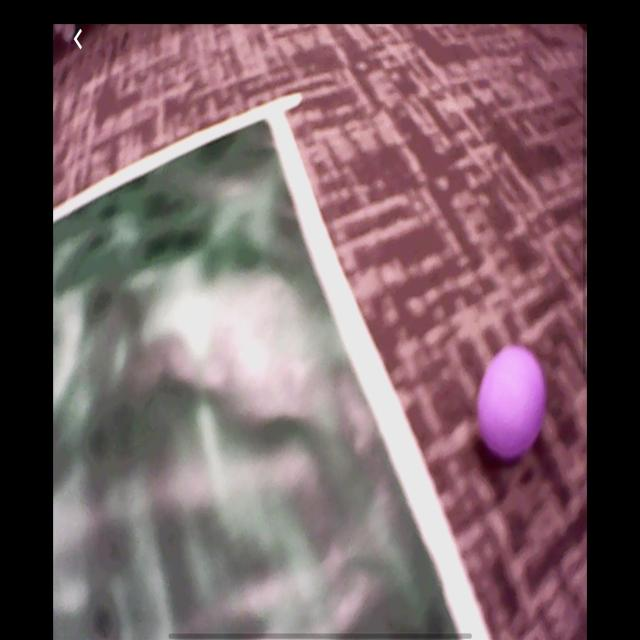ball: (476, 343, 548, 462)
